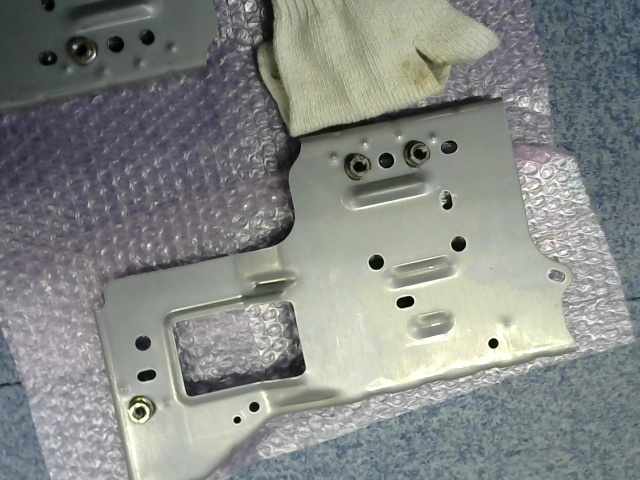dog: (67, 36, 96, 66), (127, 396, 156, 426), (404, 140, 431, 169), (344, 154, 373, 180)
